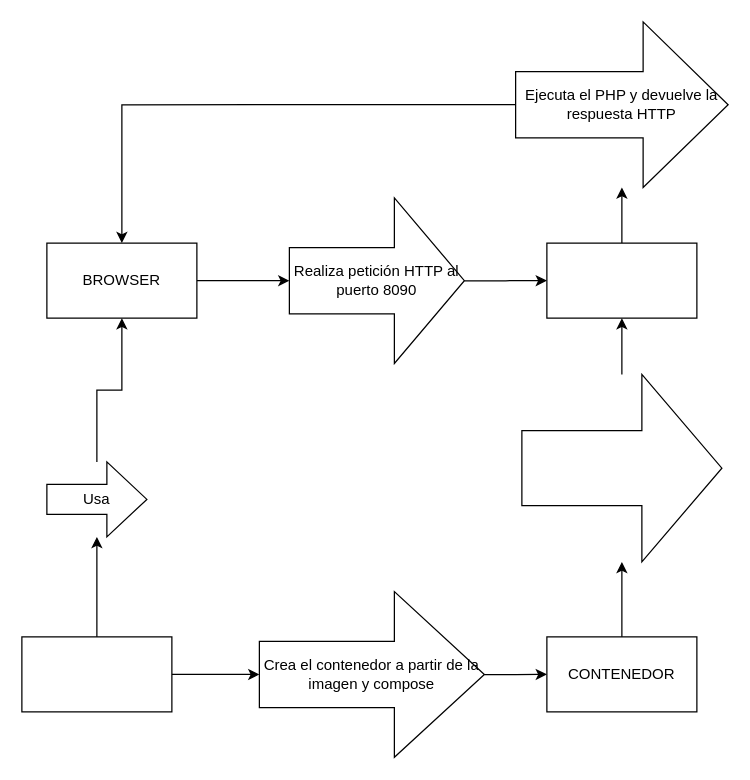
Image size: 750x780. Some labels were removed from this diagram. The centre of each missing label's shape, as x and y in pixels:
APACHE: point 621,280
Contiene un server Mapea el puerto 80 del contenedor al 8090 del ordenador: point 621,467
ORDENADOR SRC/: point 96,674
